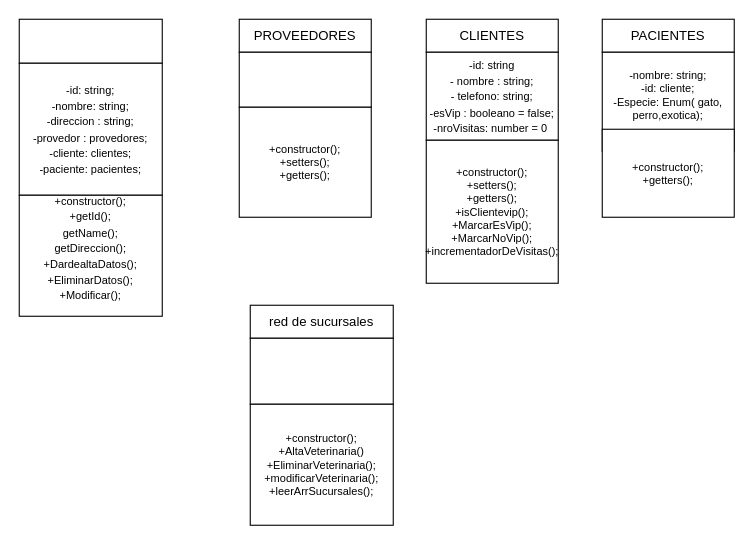
Some shapes in this 754 by 545 pixel diagram are drawn without their labels. The centre of each missing label's shape, as x and y in pixels:
-Id: string; -Nombre: string; -telefono: string;: point (304, 79)
sucursales : veterinarias[ ]: point (321, 370)
VETERINARIA: point (90, 40)
